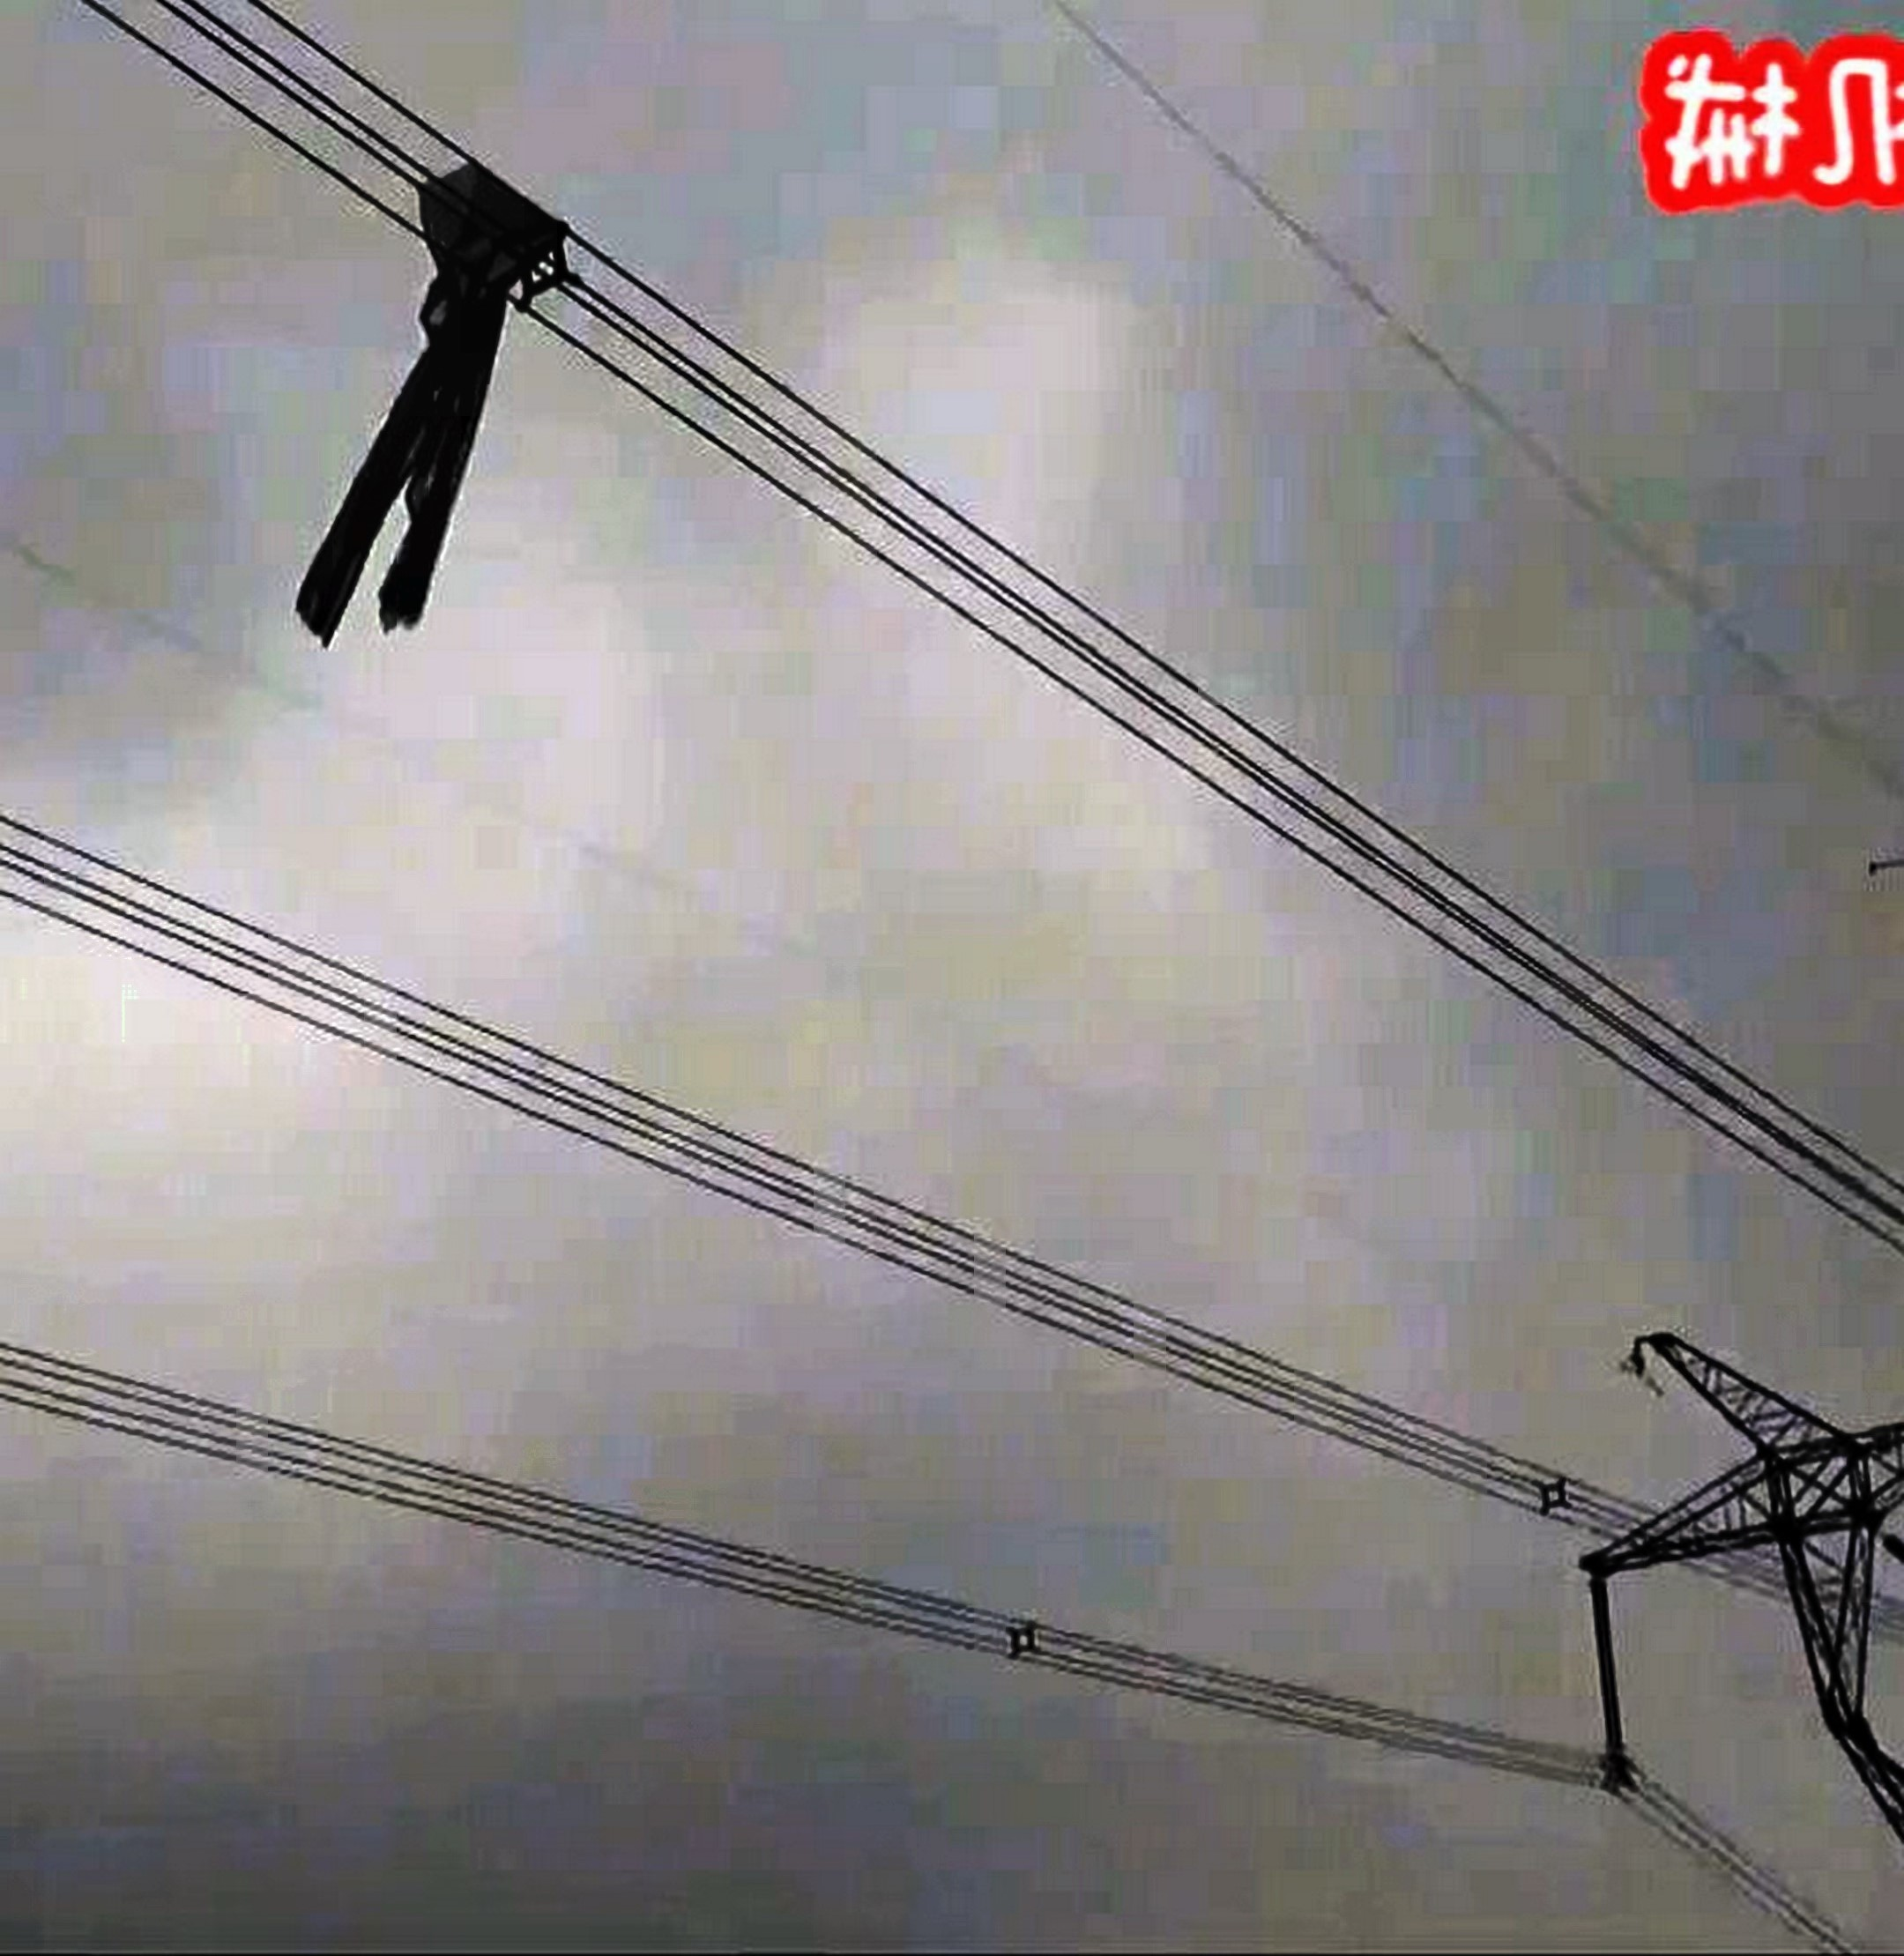wire foreign body: (278, 108, 620, 669)
